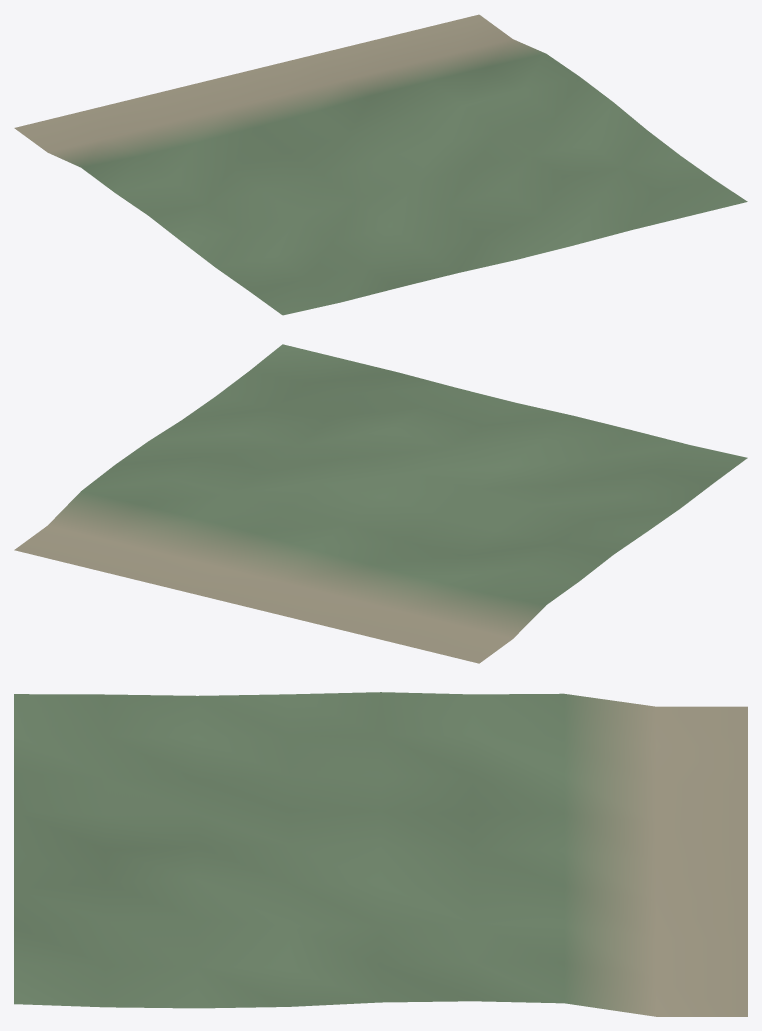
3 views of the same model, one above another, from view 1: azimuth 30°, elevation 25°; view 2: azimuth 150°, elevation 25°; view 3: azimuth 270°, elevation 25° (orthographic). The views are drawn at different scales.
Parts seen in each view (by area): view 1: Lo; view 2: Lo; view 3: Lo.
Boxes of the visible parts, <box> form: Lo: <box>14,14,747,315</box>; Lo: <box>14,344,747,663</box>; Lo: <box>14,692,747,1016</box>.
Bounding box in the file's own units: 256 × 7.91 × 256.
